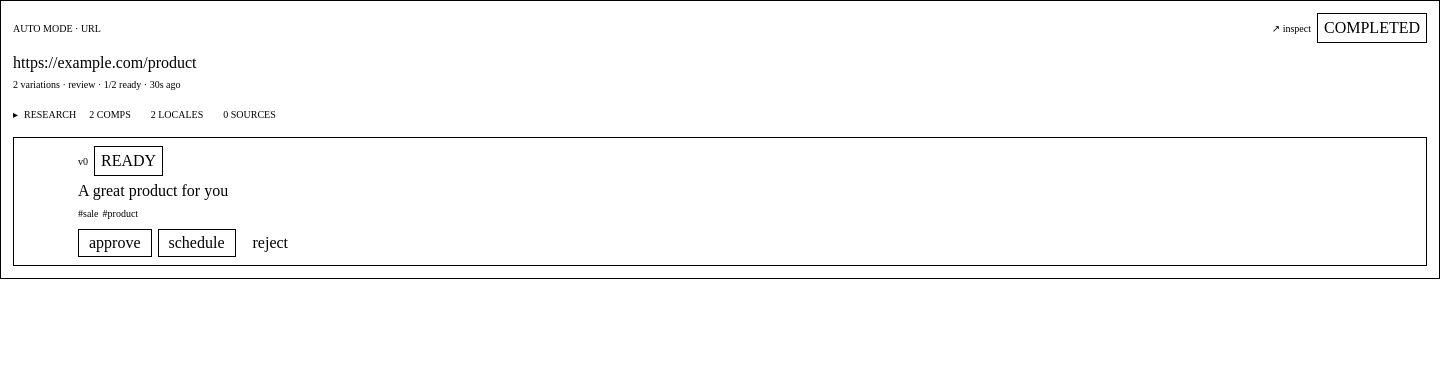
Test case: AutoModePanel · research signals › expands to show competitor chips and locale insights on click
The width and height of the screenshot is (1440, 370).
Click the button with test id "auto-mode-research-toggle". click: coordinates (50, 114)
box: [13, 104, 1427, 125]
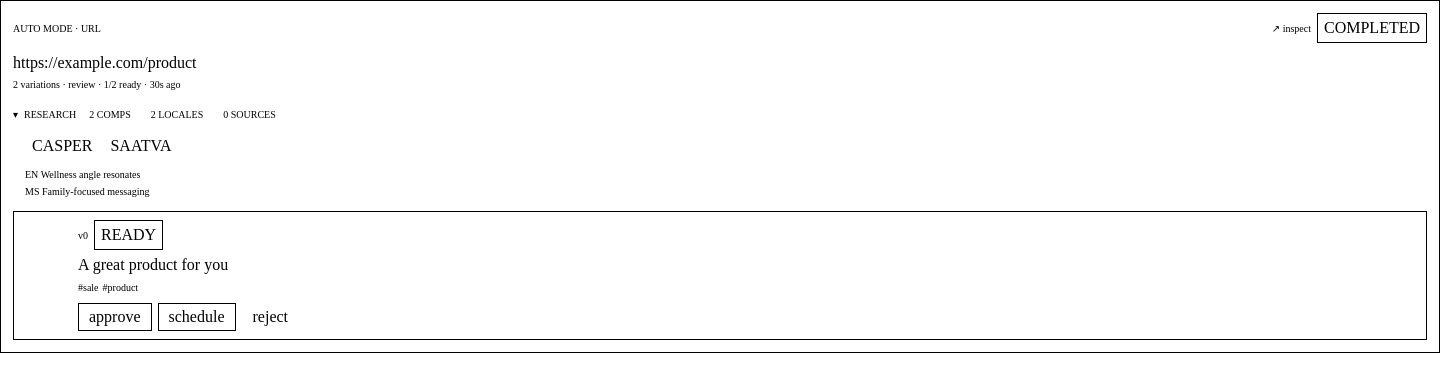
Expected: the element with test id "auto-mode-research-body" is shown, [25, 137, 172, 197]
Expected: the text "Casper" is shown, [32, 137, 92, 154]
Expected: the text "Saatva" is shown, [110, 137, 172, 154]
